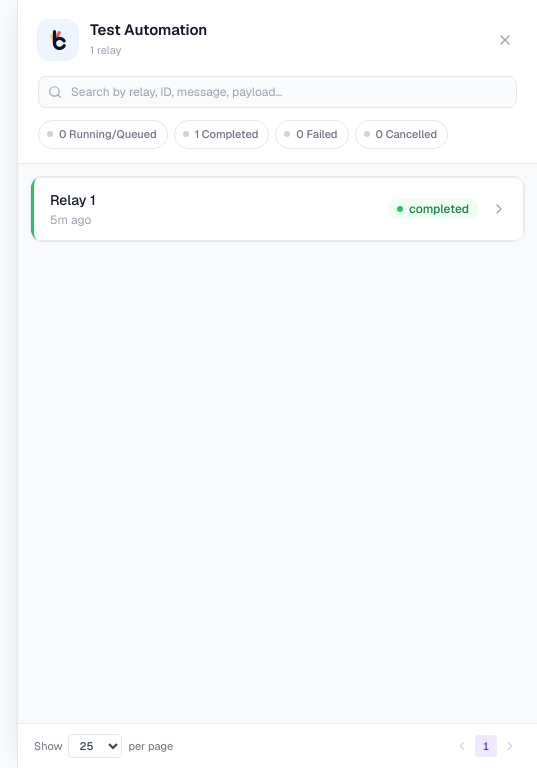
Test: ActionLogsSidebar — Workflow Builder Instance ID copy button › copy button is present for Workflow Builder Instance ID when set
This screenshot has width=537, height=768.
# Expand the card
Click the text "Relay 1": (73, 200) [50, 190, 96, 208]
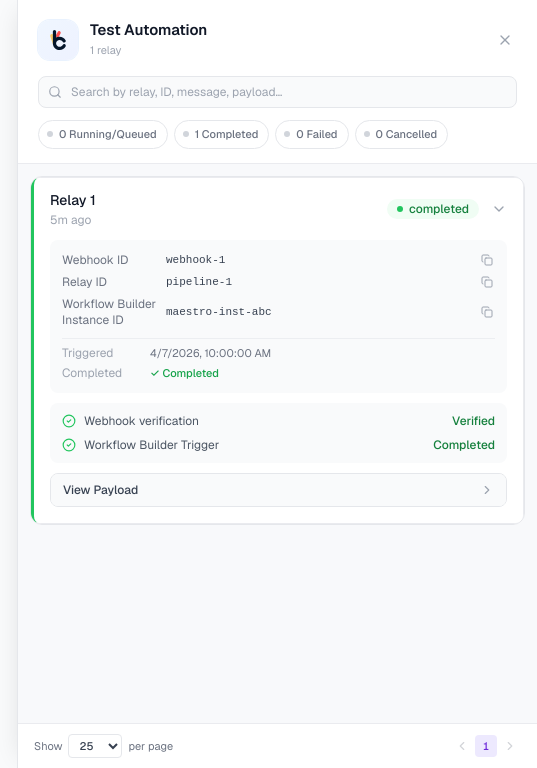
Expected: the text "Workflow Builder Instance ID" is shown, [62, 296, 158, 328]
Expected: the text "maestro-inst-abc" is shown, [166, 306, 272, 318]
